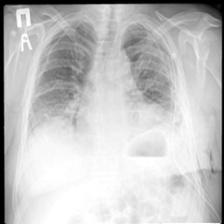tuberculosis: (20, 14, 190, 170)
